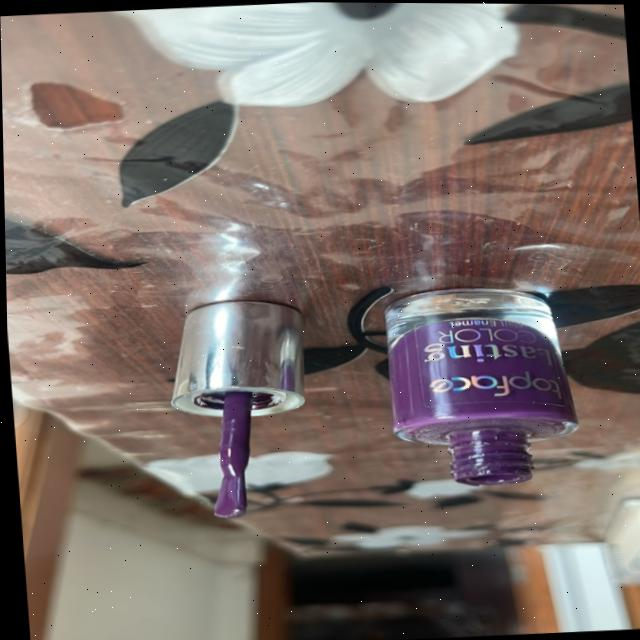nail polish: (357, 279, 590, 499), (149, 290, 319, 529), (167, 437, 312, 531)
